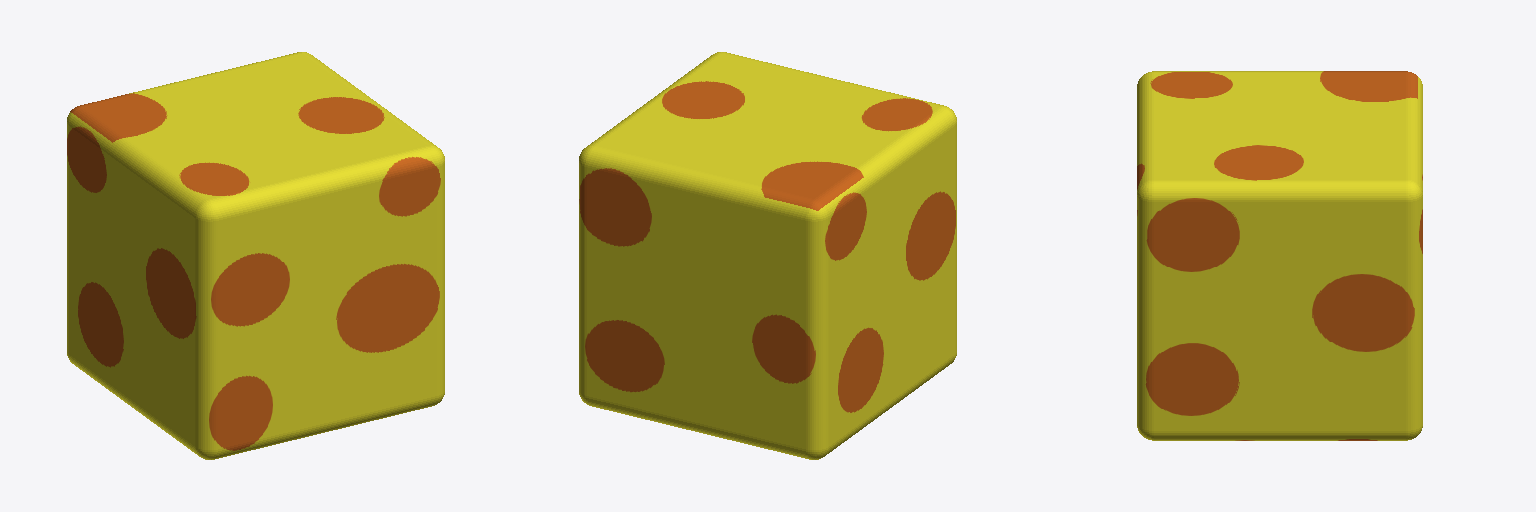
The picture shows the model from 3 angles: view 1: azimuth 30°, elevation 25°; view 2: azimuth 150°, elevation 25°; view 3: azimuth 270°, elevation 25°; orthographic projection.
Visible parts, largest first — view 1: Cube; view 2: Cube; view 3: Cube.
Boxes of the visible parts, x1,y1,x2,y2 form: Cube: [67, 52, 444, 459]; Cube: [579, 52, 956, 459]; Cube: [1137, 71, 1422, 440].
Bounding box in the file's own units: 2 × 2 × 2.
Materials: 1 (1 with a texture image).